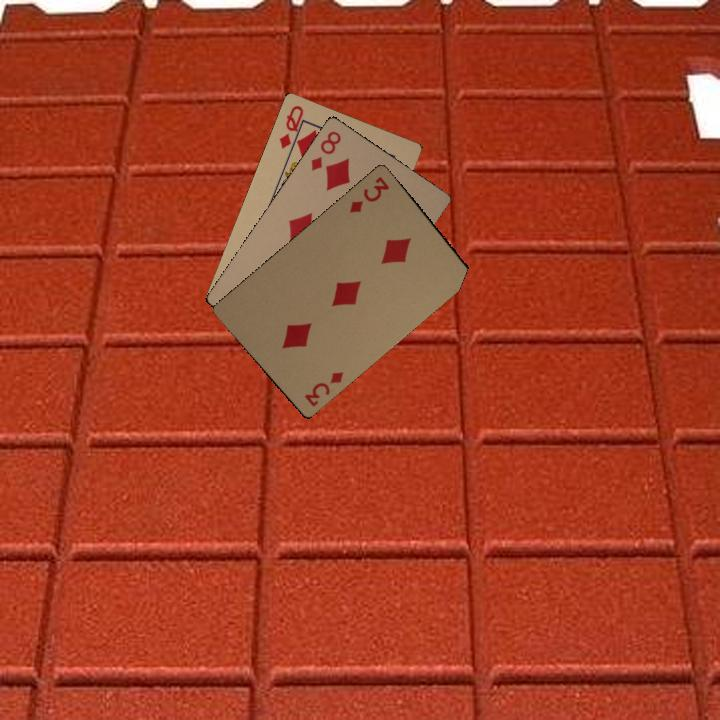3d: (345, 172, 392, 215), (300, 368, 346, 409)
8d: (307, 125, 344, 174)
Qd: (275, 101, 306, 158)
